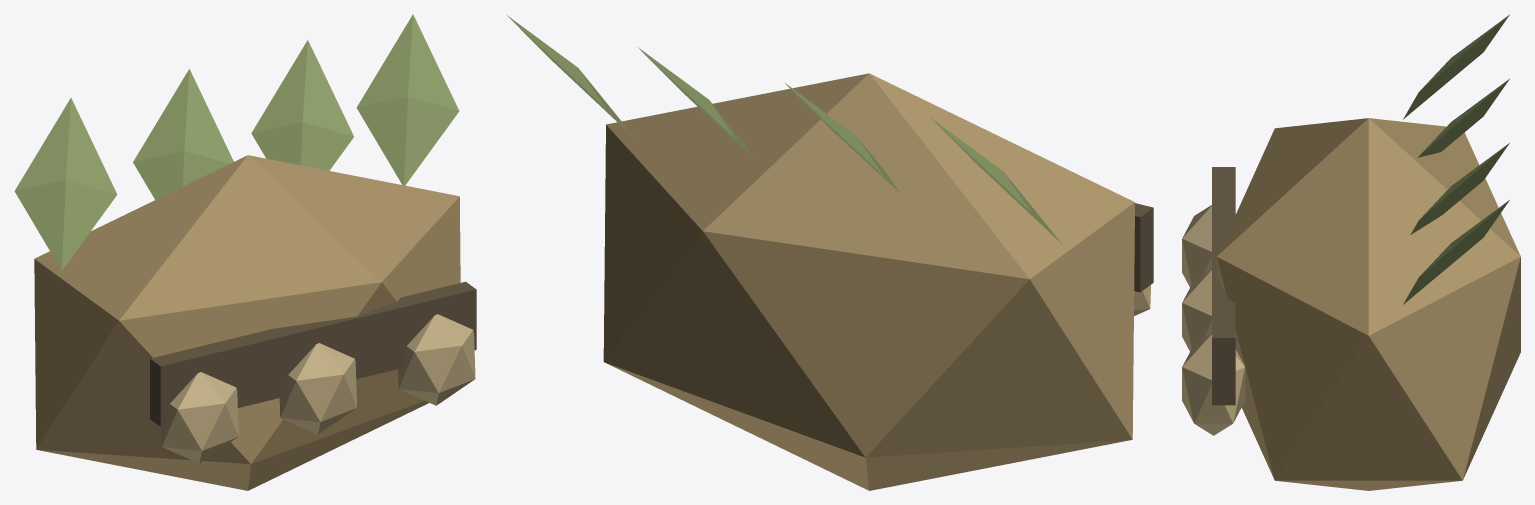
Rendered from map-exclusive-v3__meadow_04.glb.
3 views of the same model, side by side, from view 1: azimuth 30°, elevation 25°; view 2: azimuth 150°, elevation 25°; view 3: azimuth 270°, elevation 25° (orthographic). The views are drawn at different scales.
Visible parts, largest first — view 1: meadow_04; view 2: meadow_04; view 3: meadow_04.
Boxes of the visible parts, x1,y1,x2,y2 form: meadow_04: (14,14,476,490); meadow_04: (507,15,1153,490); meadow_04: (1182,14,1520,490).
Bounding box in the file's own units: 1.69 × 1.36 × 1.
